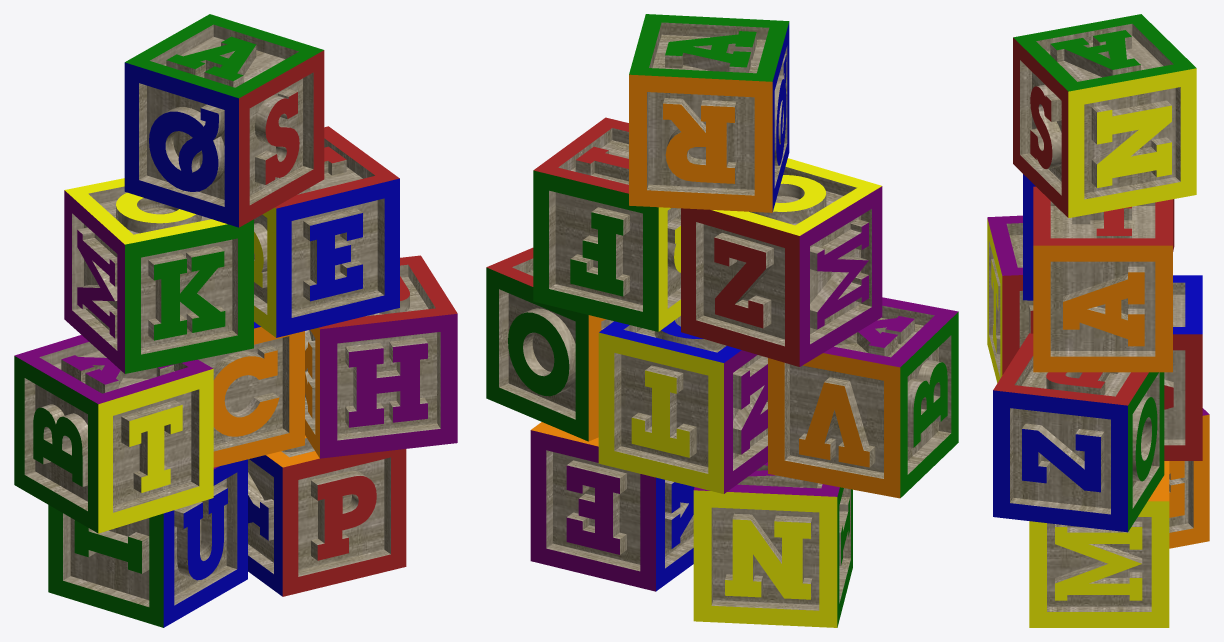
Rendered from blocks.dae.
The picture shows the model from 3 angles, left to right: view 1: azimuth 30°, elevation 25°; view 2: azimuth 150°, elevation 25°; view 3: azimuth 270°, elevation 25°; orthographic projection. The views are drawn at different scales.
Parts seen in each view (by area): view 1: S, T, K, H, E, P, U, C; view 2: K, S, T, C, E, U, P, H; view 3: S, H, E, P, C, T, U, K.
Part boxes in pixels (box(x1,y1,x2,y2)): S: box(124, 14, 324, 227); T: box(14, 335, 213, 533); K: box(64, 178, 253, 373); H: box(305, 255, 457, 458); E: box(254, 126, 399, 337); P: box(248, 435, 406, 596); U: box(48, 459, 247, 627); C: box(198, 322, 304, 467); K: box(681, 158, 882, 366); S: box(629, 14, 789, 212); T: box(768, 297, 958, 498); C: box(598, 316, 767, 493); E: box(533, 117, 680, 331); U: box(693, 462, 852, 627); P: box(530, 422, 694, 591); H: box(486, 247, 613, 441); S: box(1013, 14, 1196, 218); H: box(993, 333, 1164, 532); E: box(1033, 186, 1172, 372); P: box(1029, 461, 1169, 627); C: box(1164, 275, 1202, 460); T: box(987, 215, 1033, 382); U: box(1169, 408, 1209, 548); K: box(1023, 174, 1174, 300).
Size of the model in its own units: 6.6 by 3.18 by 8.
7 materials, 1 textured.
